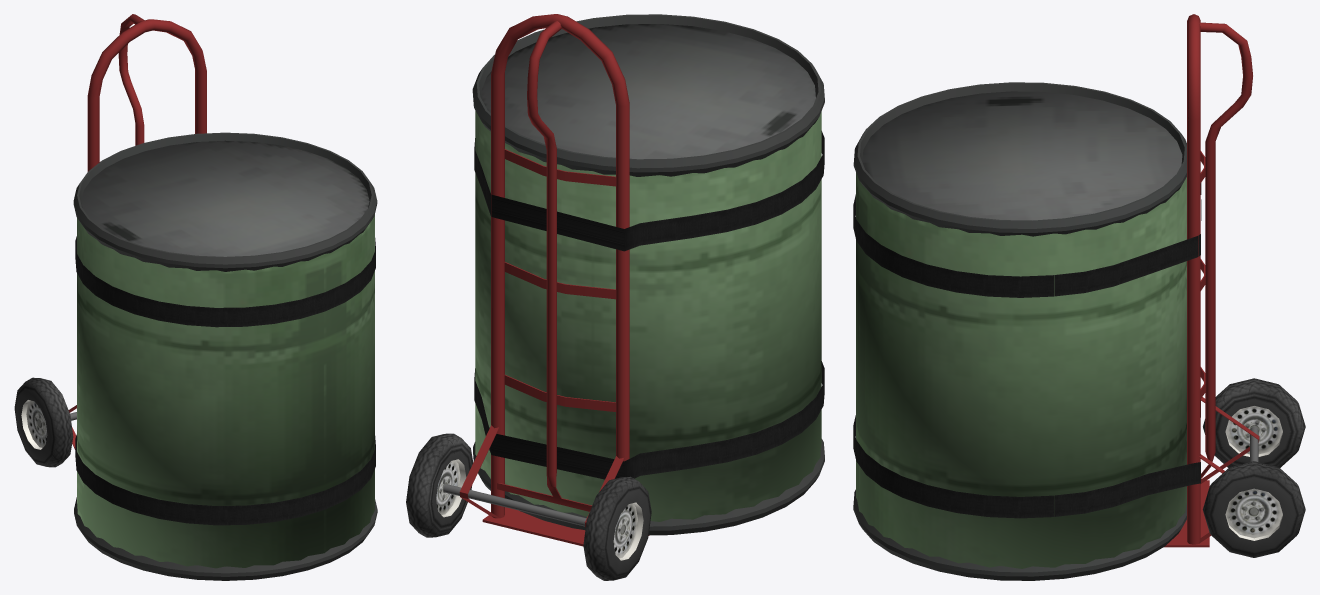
File: PA_Barrel.fbx
The picture shows the model from 3 angles, left to right: view 1: azimuth 30°, elevation 25°; view 2: azimuth 150°, elevation 25°; view 3: azimuth 270°, elevation 25°; orthographic projection. The views are drawn at different scales.
Visible parts, largest first — view 1: Handtruck_bottom; view 2: Handtruck_bottom; view 3: Handtruck_bottom.
Part boxes in pixels (left/top/right/bottom): Handtruck_bottom: left=14, top=14, right=377, bottom=580; Handtruck_bottom: left=406, top=14, right=824, bottom=580; Handtruck_bottom: left=853, top=14, right=1305, bottom=580.
Size of the model in its own units: 0.4884 by 0.7922 by 0.6556.
